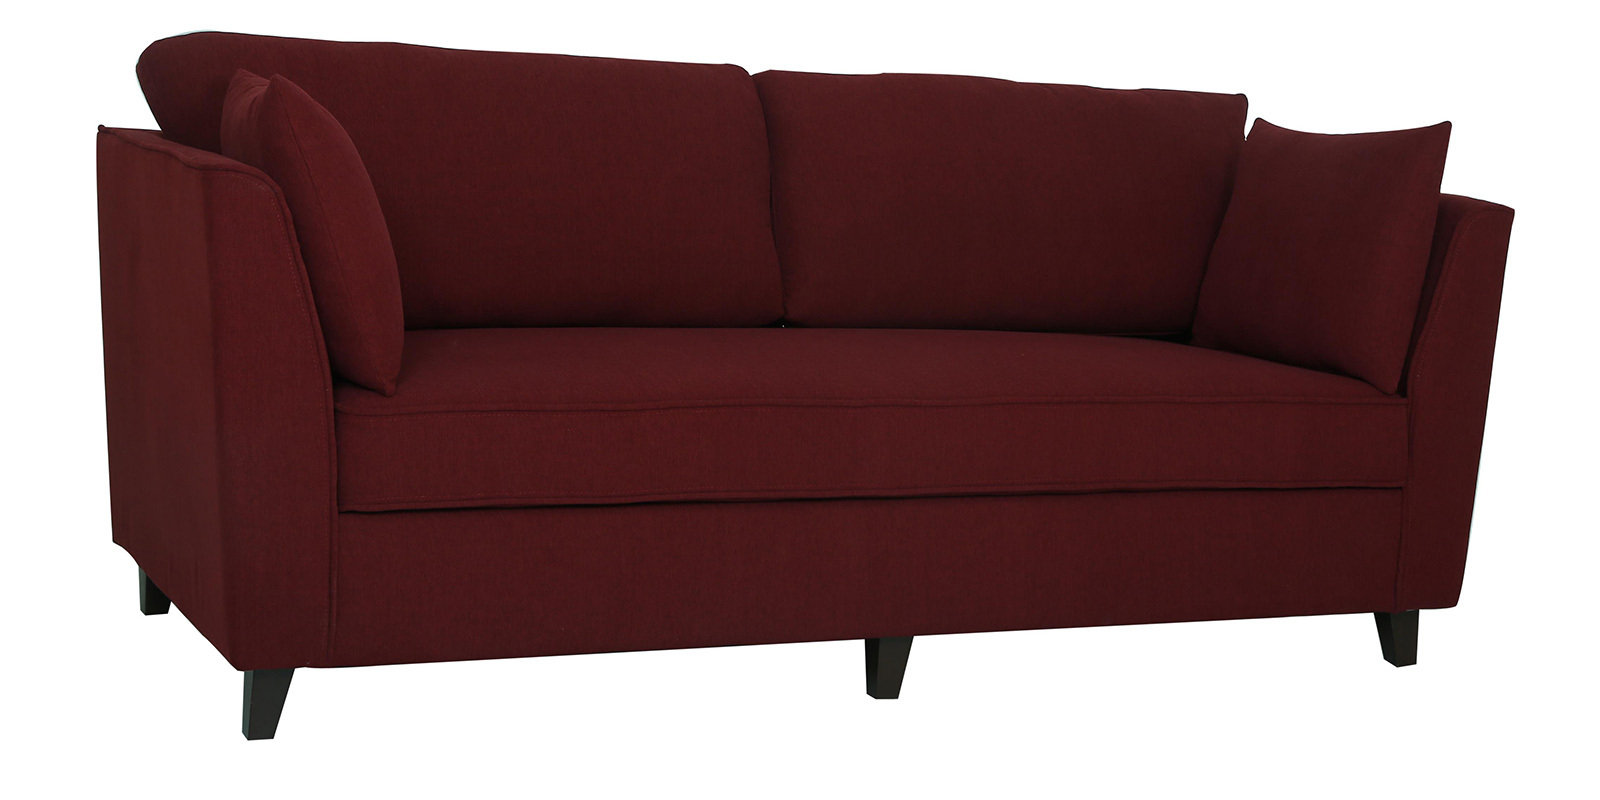Miranda Three Seater Sofa in Garnet Red Colour by CasaCraft: (93, 29, 1515, 741)
